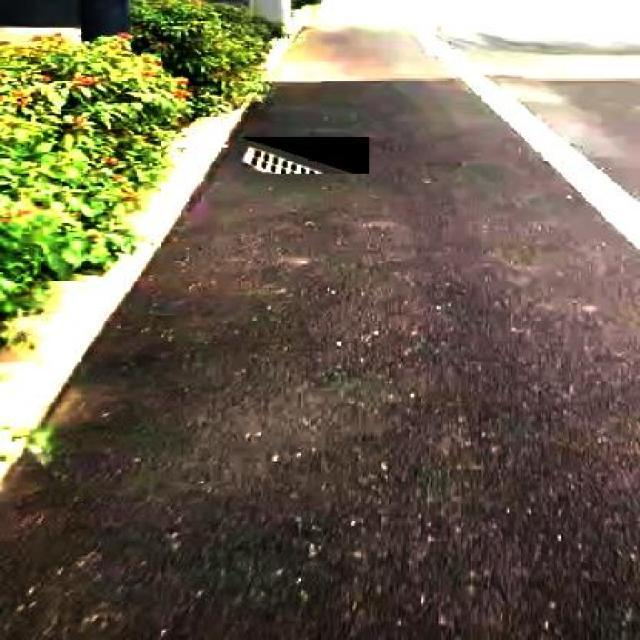Manhole: (240, 137, 369, 174)
